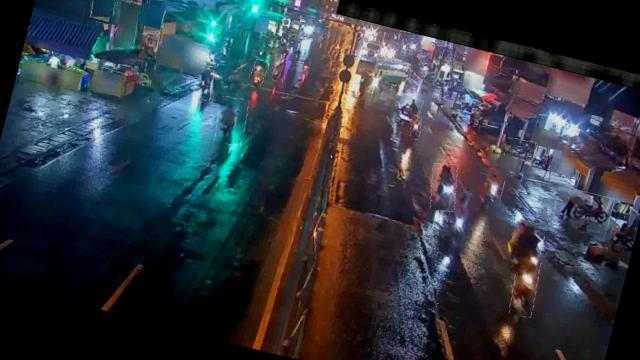Bike: (506, 258, 544, 320), (424, 160, 464, 214), (212, 94, 252, 148), (563, 188, 614, 226), (512, 220, 546, 273), (472, 172, 505, 210), (503, 136, 538, 163), (192, 66, 215, 102), (396, 93, 424, 122), (248, 59, 268, 89), (272, 57, 290, 84), (408, 115, 423, 140)
